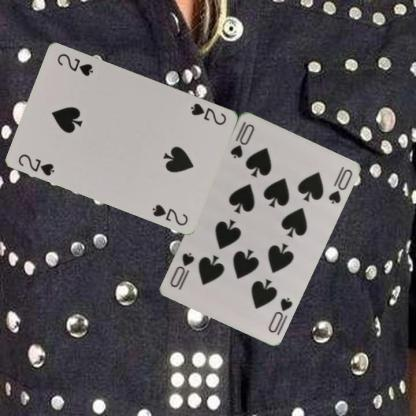10s: (265, 294, 294, 334), (227, 121, 256, 159)
2s: (188, 100, 228, 126), (16, 151, 56, 177)
